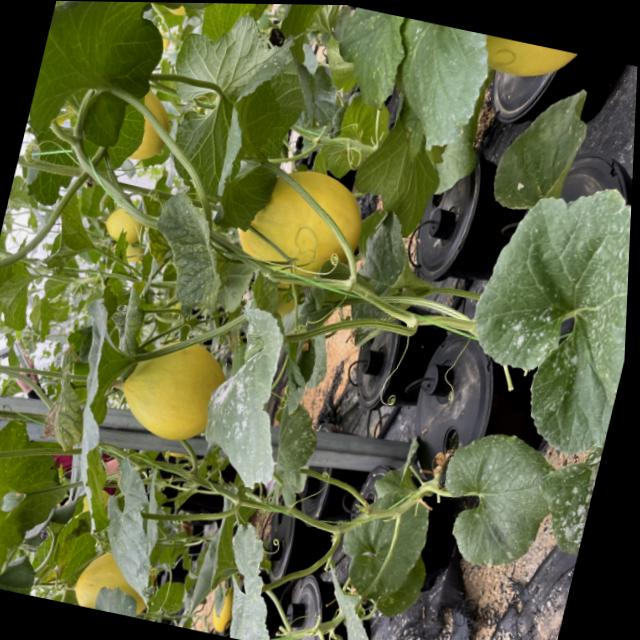CMV: (135, 185, 254, 323)
downy mildew: (486, 72, 600, 222), (86, 457, 184, 608), (137, 187, 243, 315), (314, 5, 423, 126), (207, 522, 303, 640)
healthy: (139, 2, 300, 213), (40, 298, 152, 550), (24, 0, 183, 156), (425, 422, 564, 578), (0, 395, 88, 593), (347, 121, 450, 254), (35, 180, 107, 287), (263, 4, 351, 59), (0, 254, 41, 370), (0, 378, 2, 572)
powdery mildew: (448, 162, 633, 461), (193, 280, 314, 503), (378, 17, 501, 159), (534, 408, 611, 576), (258, 396, 326, 507)
